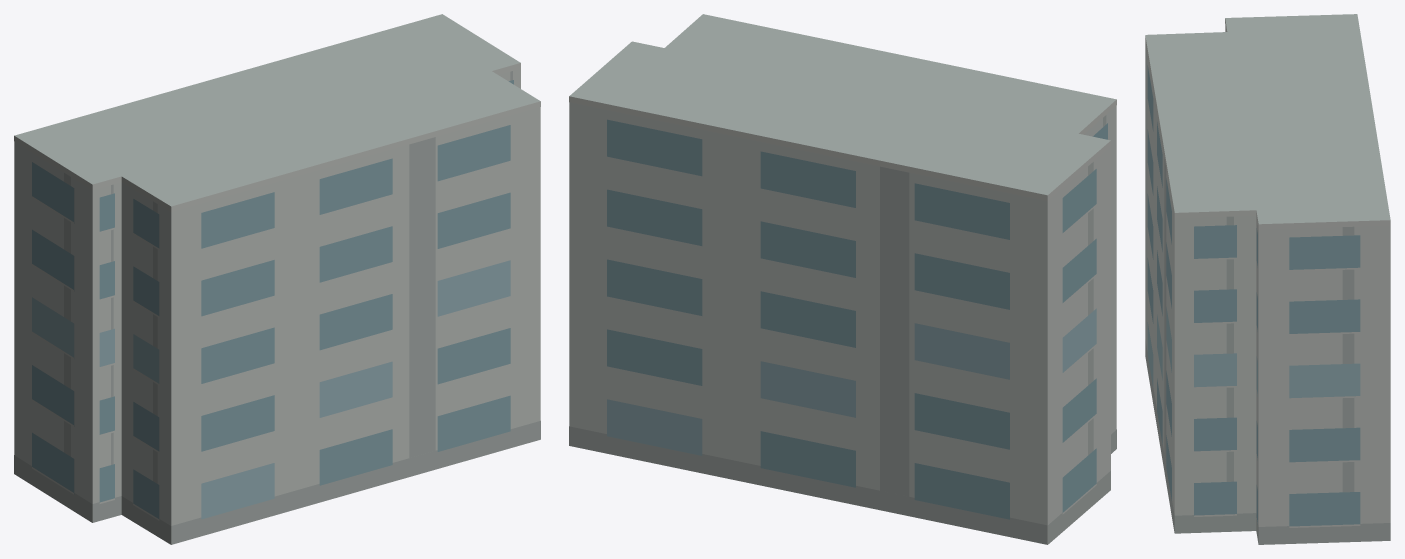
The model's file is survey-upis-32706326.glb.
The picture shows the model from 3 angles, left to right: view 1: azimuth 30°, elevation 25°; view 2: azimuth 150°, elevation 25°; view 3: azimuth 270°, elevation 25°; orthographic projection. The views are drawn at different scales.
Visible parts, largest first — view 1: survey-upis-32706326.tmp; view 2: survey-upis-32706326.tmp; view 3: survey-upis-32706326.tmp.
Part boxes in pixels (x1=…): survey-upis-32706326.tmp: x1=14, y1=14, x2=540, y2=544; survey-upis-32706326.tmp: x1=569, y1=14, x2=1116, y2=544; survey-upis-32706326.tmp: x1=1145, y1=14, x2=1390, y2=544.
Size of the model in its own units: 19.97 by 14.2 by 9.86.
